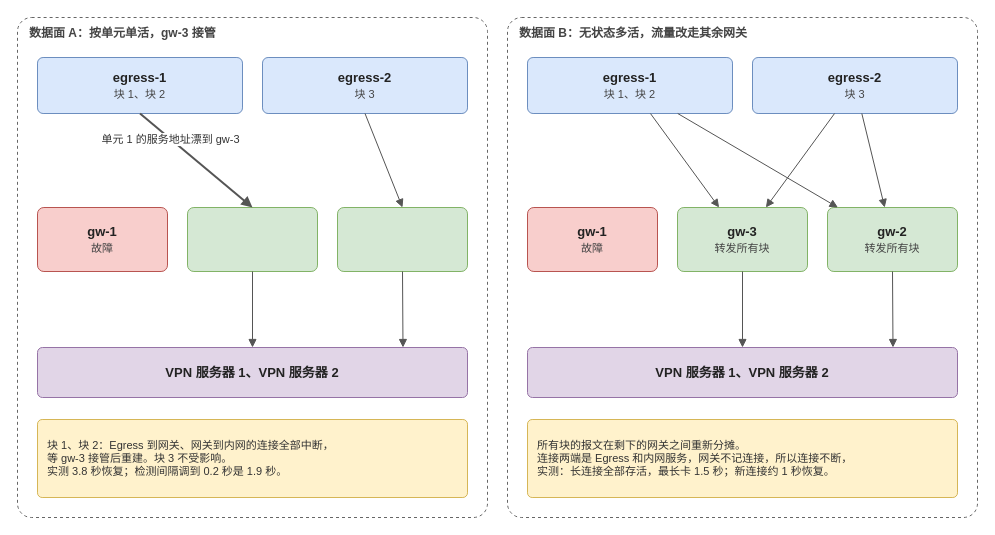
This 995x535 diagram has some shape labels left out. Here are the shapes that lost their labels. From the top down, the centre of each, then its label:
the point at 252,239: gw-3 热备，接管单元 1
the point at 402,239: gw-2 单元 2
